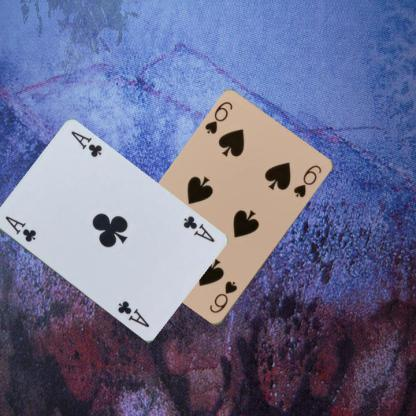6s: (202, 99, 234, 136), (207, 278, 238, 315)
Ac: (2, 213, 38, 244), (180, 213, 216, 244)
